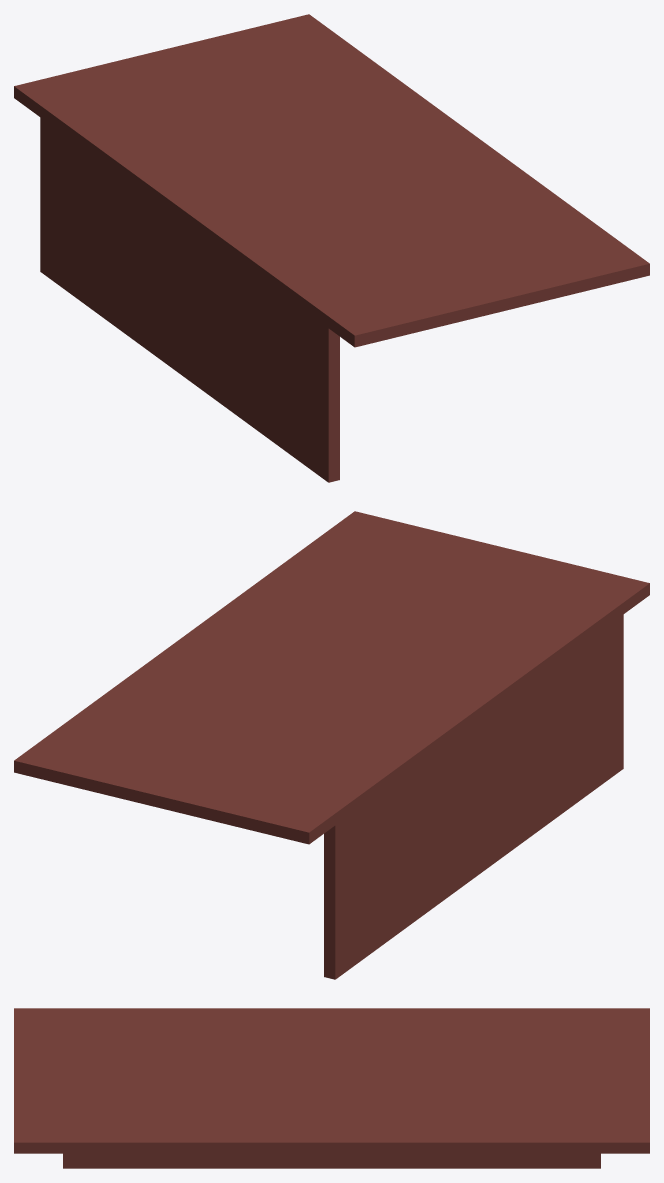
The model's file is luxury_saloon_boot_lid.glb.
3 renders of one model, top to bottom at view 1: azimuth 30°, elevation 25°; view 2: azimuth 150°, elevation 25°; view 3: azimuth 270°, elevation 25°, orthographic. The views are drawn at different scales.
Visible parts, largest first — view 1: body:compound; view 2: body:compound; view 3: body:compound.
Part boxes in pixels (x1,y1,x2,y2): body:compound: [14, 14, 649, 482]; body:compound: [14, 511, 649, 979]; body:compound: [14, 1008, 649, 1168].
Size of the model in its own units: 0.8125 by 0.4375 by 1.62.
